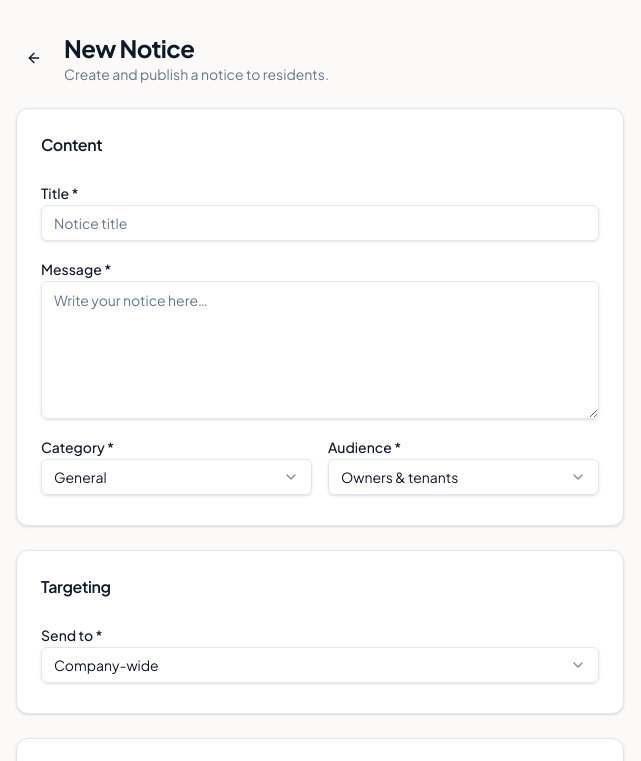
Test: Suite 38-05: Scheduled-date validation (Malta timezone) › shows past-time error for a clearly past date
The image size is (641, 761).
In the field with placeholder "Notice title": [320, 223] box [41,205,599,241], type "Test"
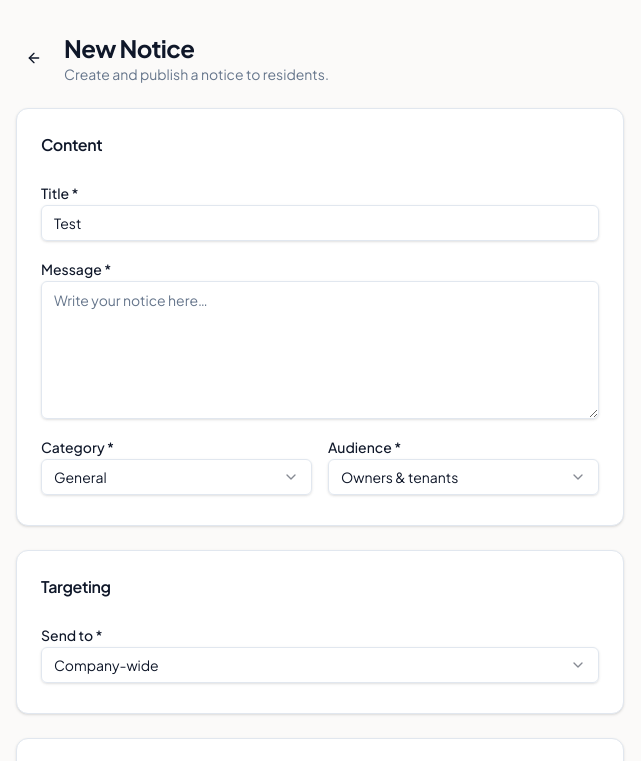
In the text box with placeholder "Write your notice here…": [320, 350] box [41,281,599,419], type "Body"
(page scrolled)
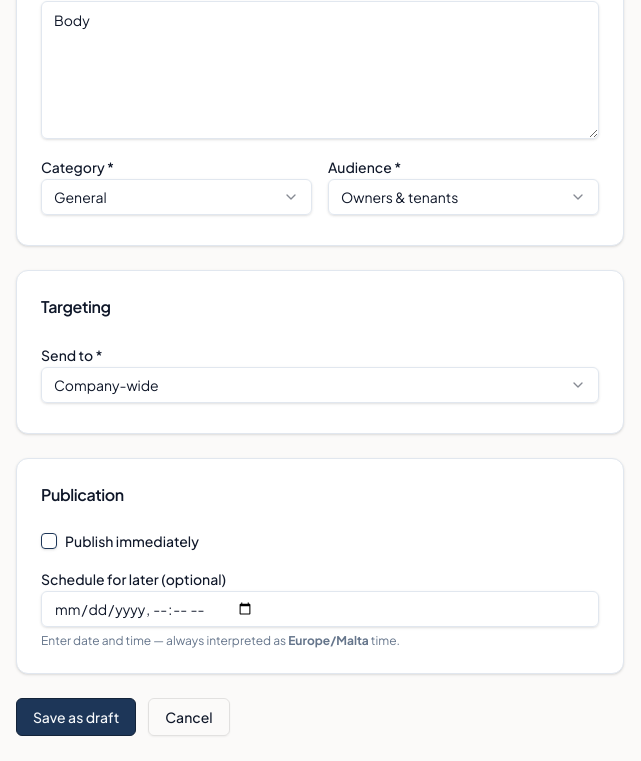
In the field labelled "Schedule for later (optional)": [320, 609] box [41,591,599,627], type "2020-01-01T10:00"
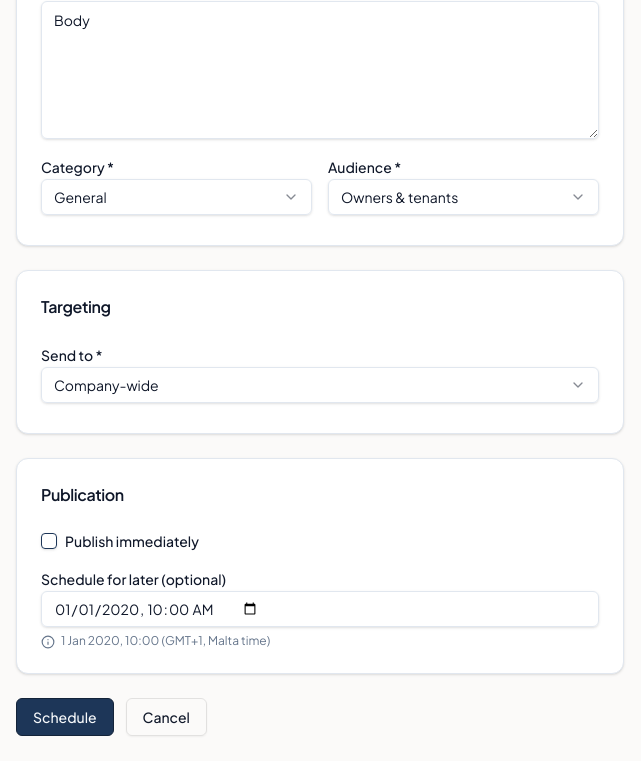
Click the button "Schedule": [65, 717] box [16,698,114,736]
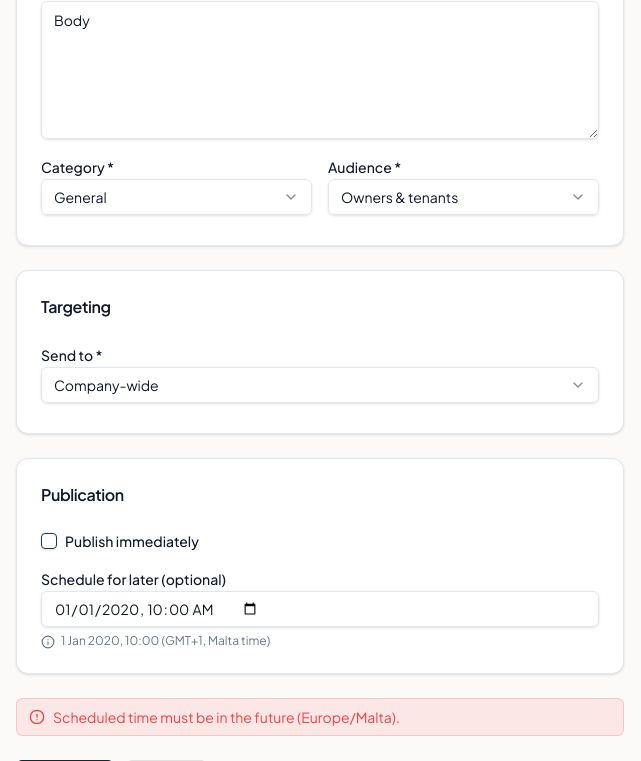
expect the text "Scheduled time must be in the future (Europe/Malta)." is shown: met, box [16,698,624,736]
